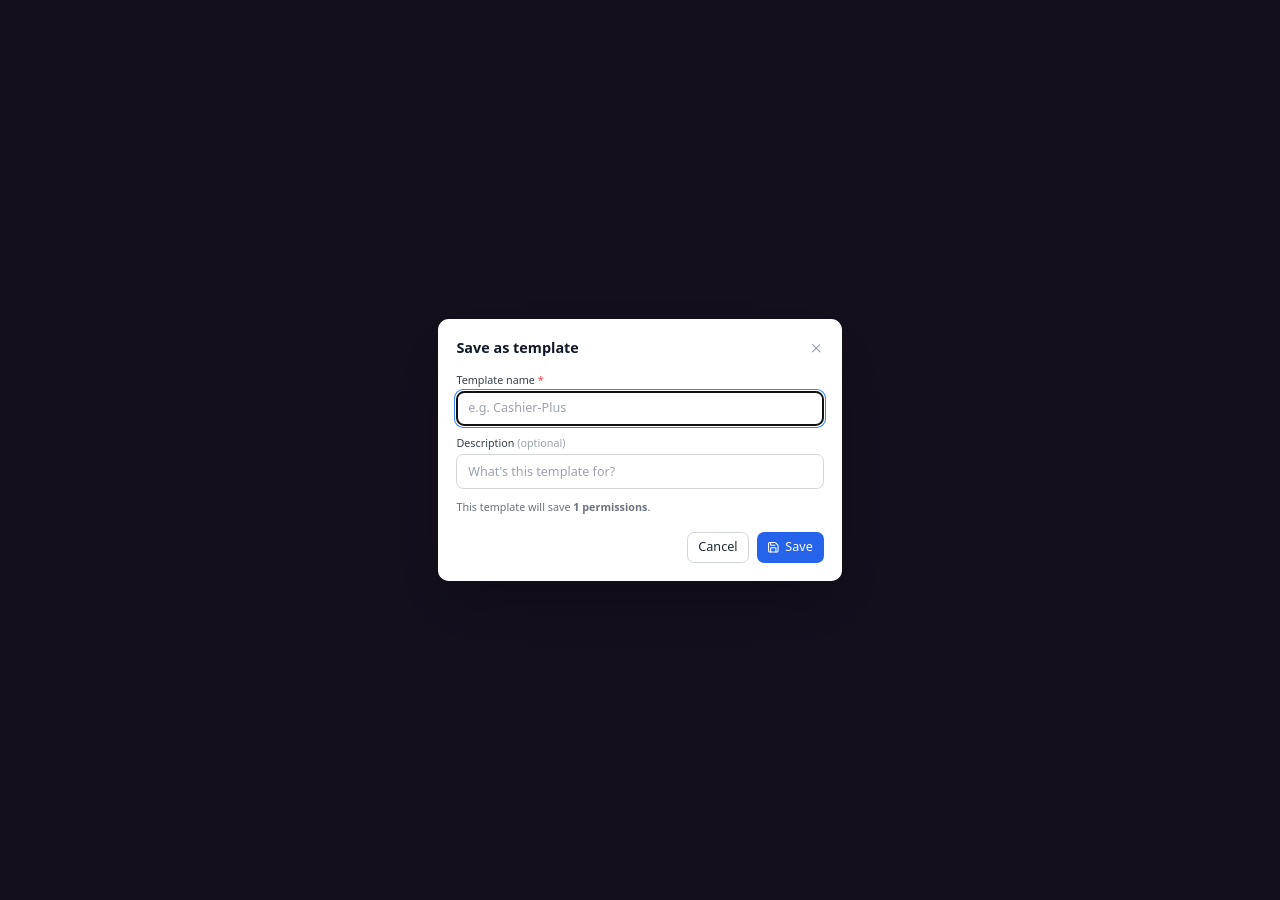
Scenario: SaveTemplateDialog (create mode) › blocks submit when name is too short
In the field labelled "Template name *": point(640, 408) [456,391,824,426], type "AB"
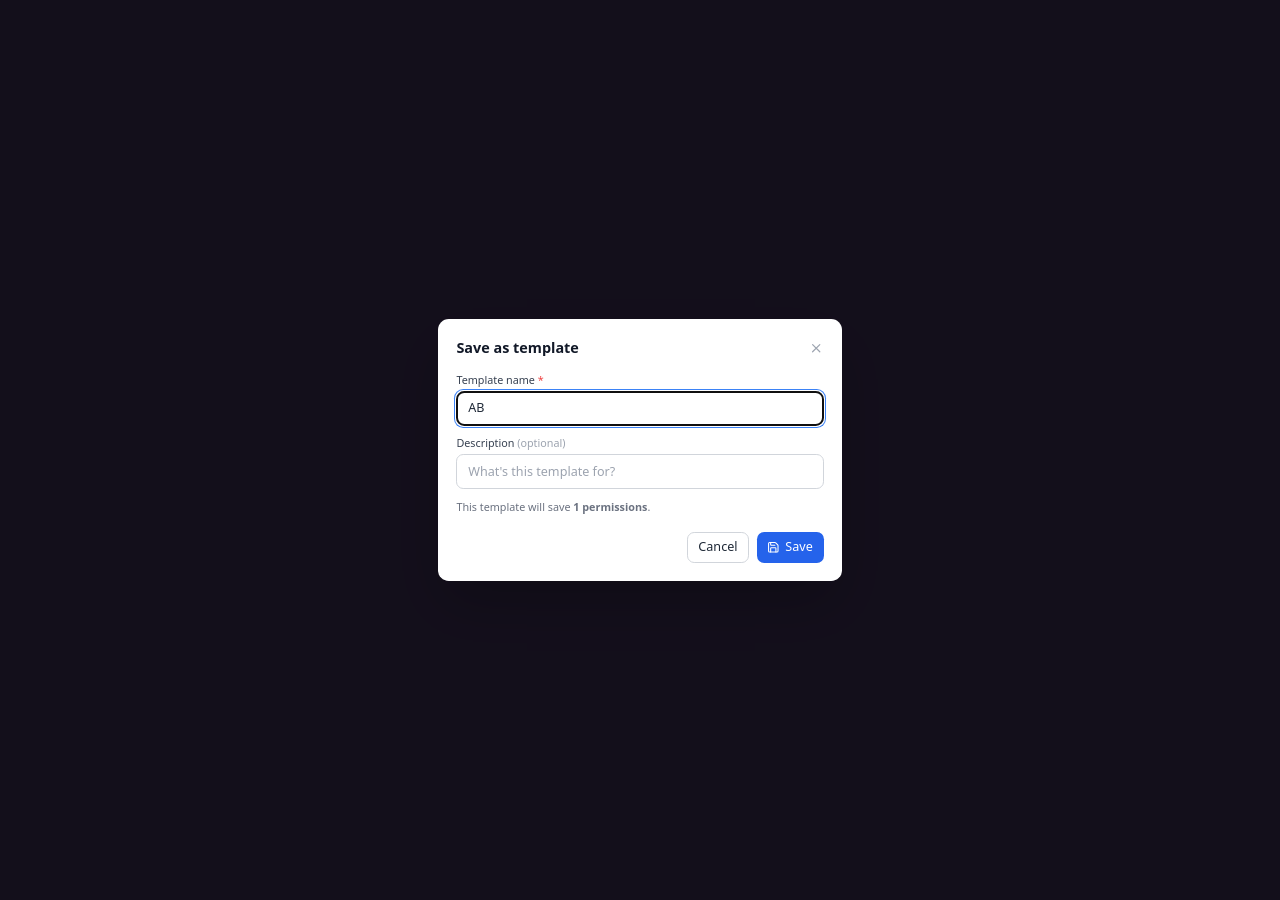
Click the button "Save": point(790, 547) [756,532,824,563]
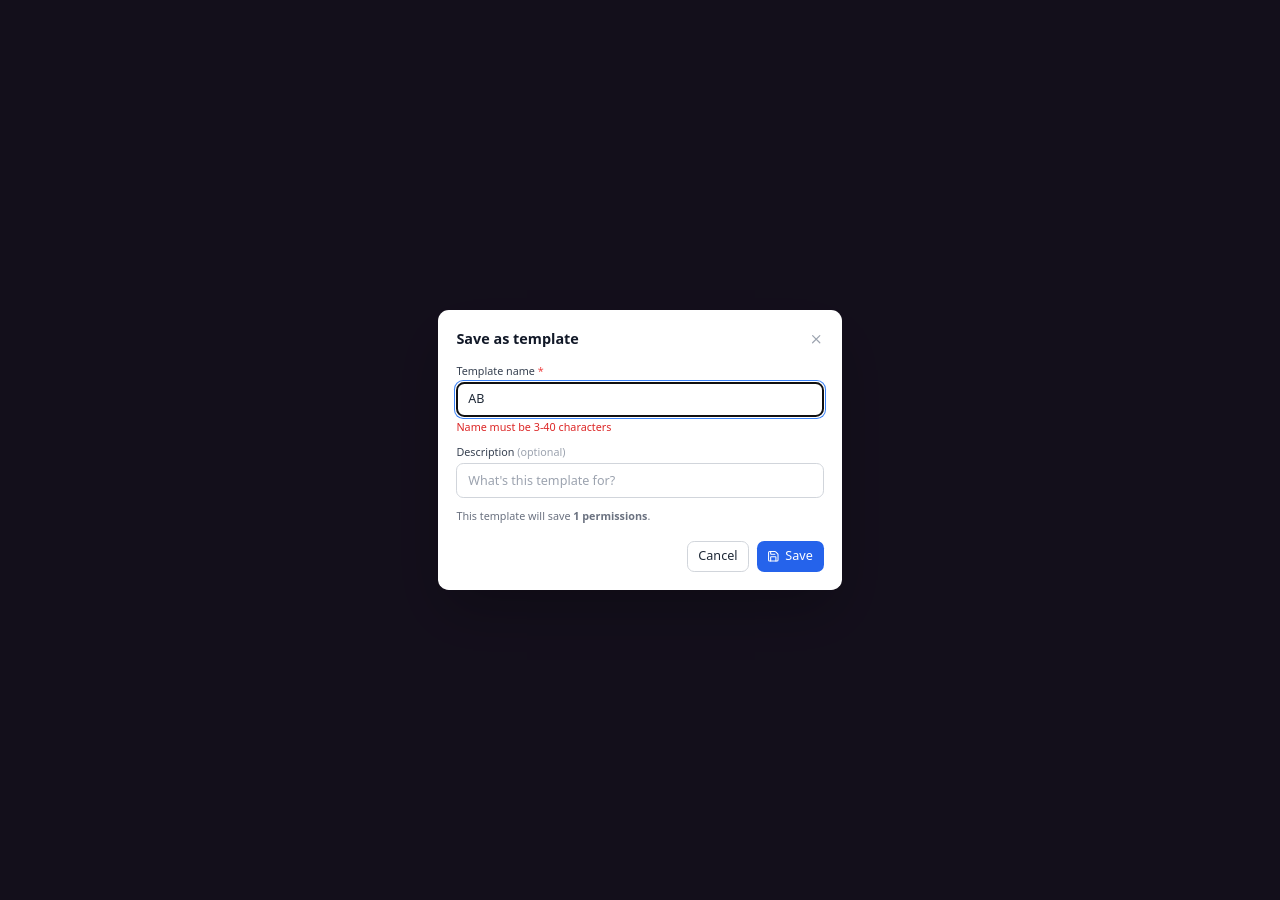
Result: the text "Name must be 3-40 characters" is shown at [456,419,611,434]
